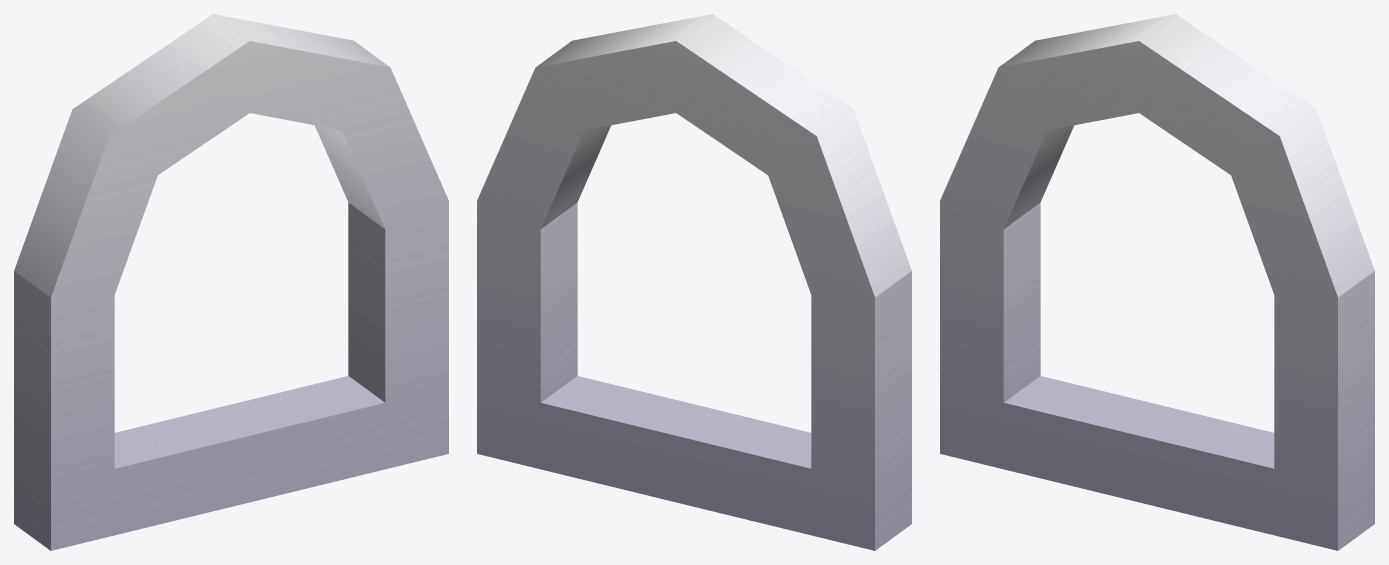
The picture shows the model from 3 angles, left to right: view 1: azimuth 30°, elevation 25°; view 2: azimuth 150°, elevation 25°; view 3: azimuth 330°, elevation 25°; orthographic projection.
Visible parts, largest first — view 1: window-white-round-low; view 2: window-white-round-low; view 3: window-white-round-low.
Boxes of the visible parts, box(x1,y1,x2,y2) form: window-white-round-low: box(14, 14, 448, 550); window-white-round-low: box(477, 14, 911, 550); window-white-round-low: box(940, 14, 1374, 550).
Size of the model in its own units: 0.3125 by 0.3462 by 0.05.
1 material, 1 textured.
